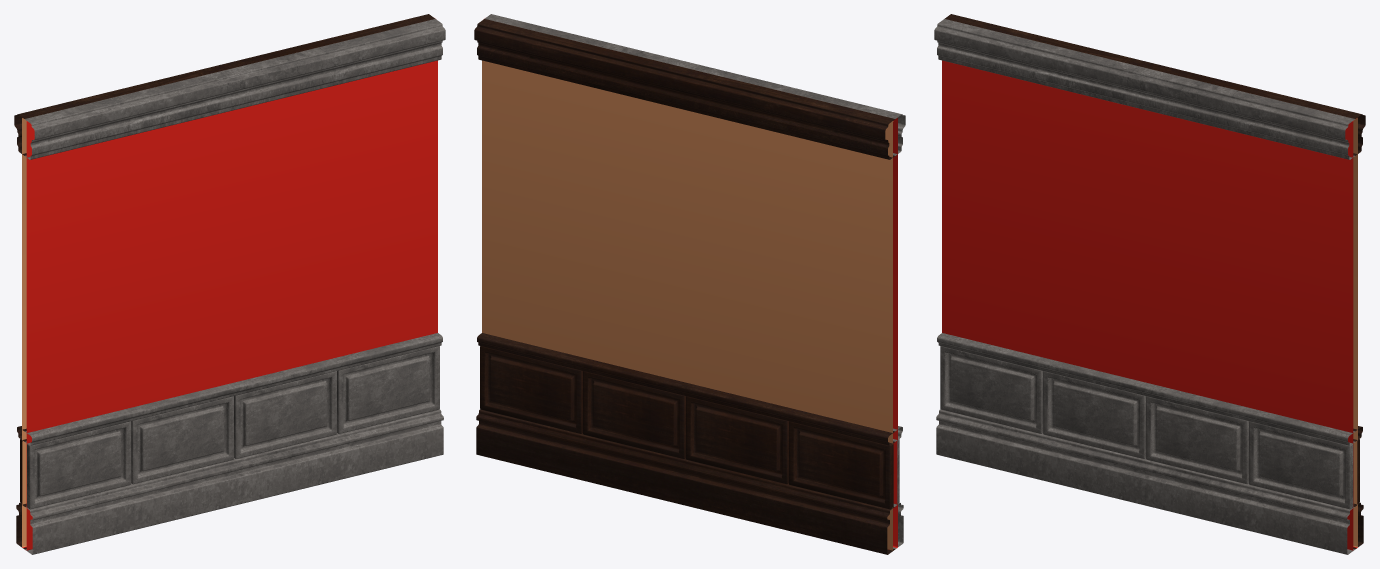
The model's file is SK7 WALL 2.fbx.
3 views of the same model, side by side, from view 1: azimuth 30°, elevation 25°; view 2: azimuth 150°, elevation 25°; view 3: azimuth 330°, elevation 25° (orthographic).
Parts seen in each view (by area): view 1: SK7 WALL 2; view 2: SK7 WALL 2; view 3: SK7 WALL 2.
Part boxes in pixels (x1,y1,x2,y2): SK7 WALL 2: (14, 14, 445, 554); SK7 WALL 2: (474, 14, 905, 554); SK7 WALL 2: (934, 14, 1365, 554).
Size of the model in its own units: 400 by 400 by 33.96.
